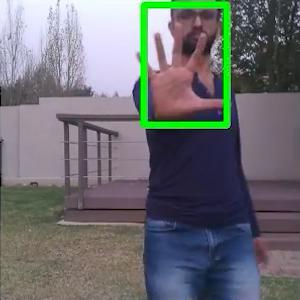follow_hand: (133, 20, 234, 123)
